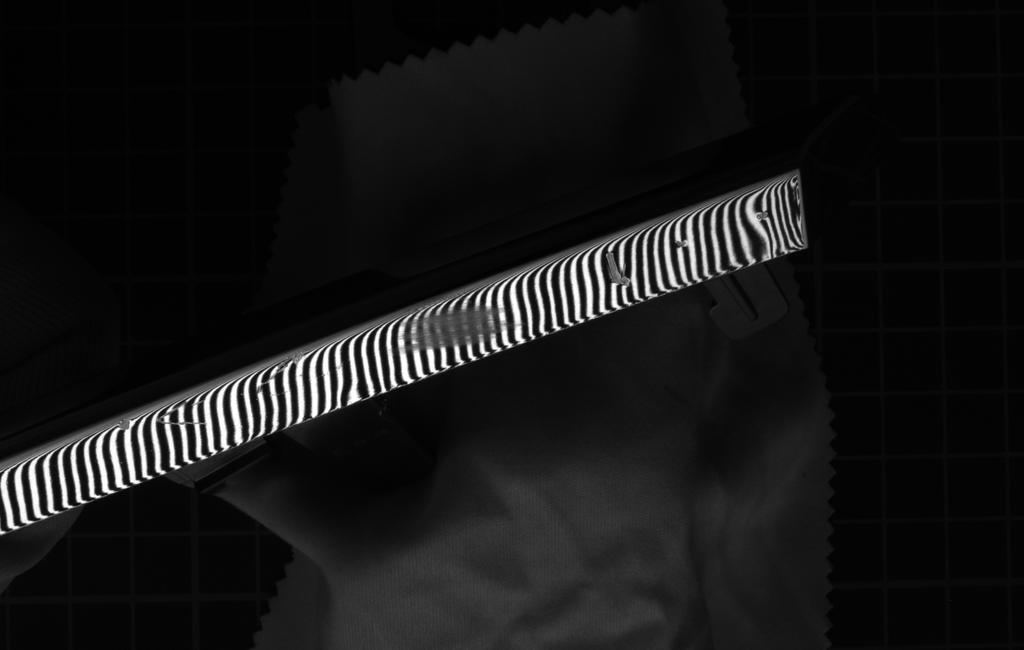Pierced: (668, 234, 696, 253), (749, 207, 775, 227), (118, 411, 135, 434)
Pitting: (382, 300, 525, 359)
Scratch: (252, 350, 307, 405), (155, 397, 217, 430), (597, 243, 632, 296)
